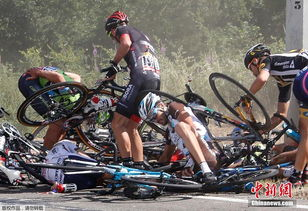fall: (26, 132, 117, 192)
